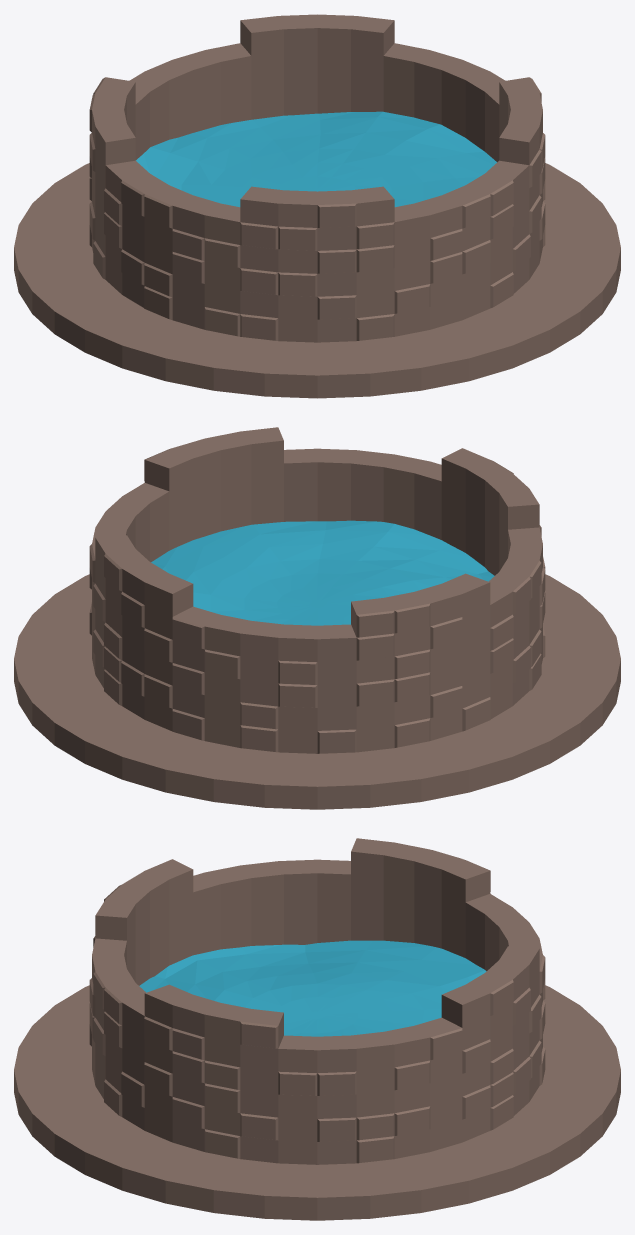
File: 065 Wall.FBX
3 views of the same model, one above another, from view 1: azimuth 30°, elevation 25°; view 2: azimuth 150°, elevation 25°; view 3: azimuth 270°, elevation 25° (orthographic).
Visible parts, largest first — view 1: Cylinder023; view 2: Cylinder023; view 3: Cylinder023.
Boxes of the visible parts, <box> form: Cylinder023: <box>14,14,620,398</box>; Cylinder023: <box>14,427,620,809</box>; Cylinder023: <box>14,838,620,1220</box>.
Size of the model in its own units: 389 by 113 by 389.
